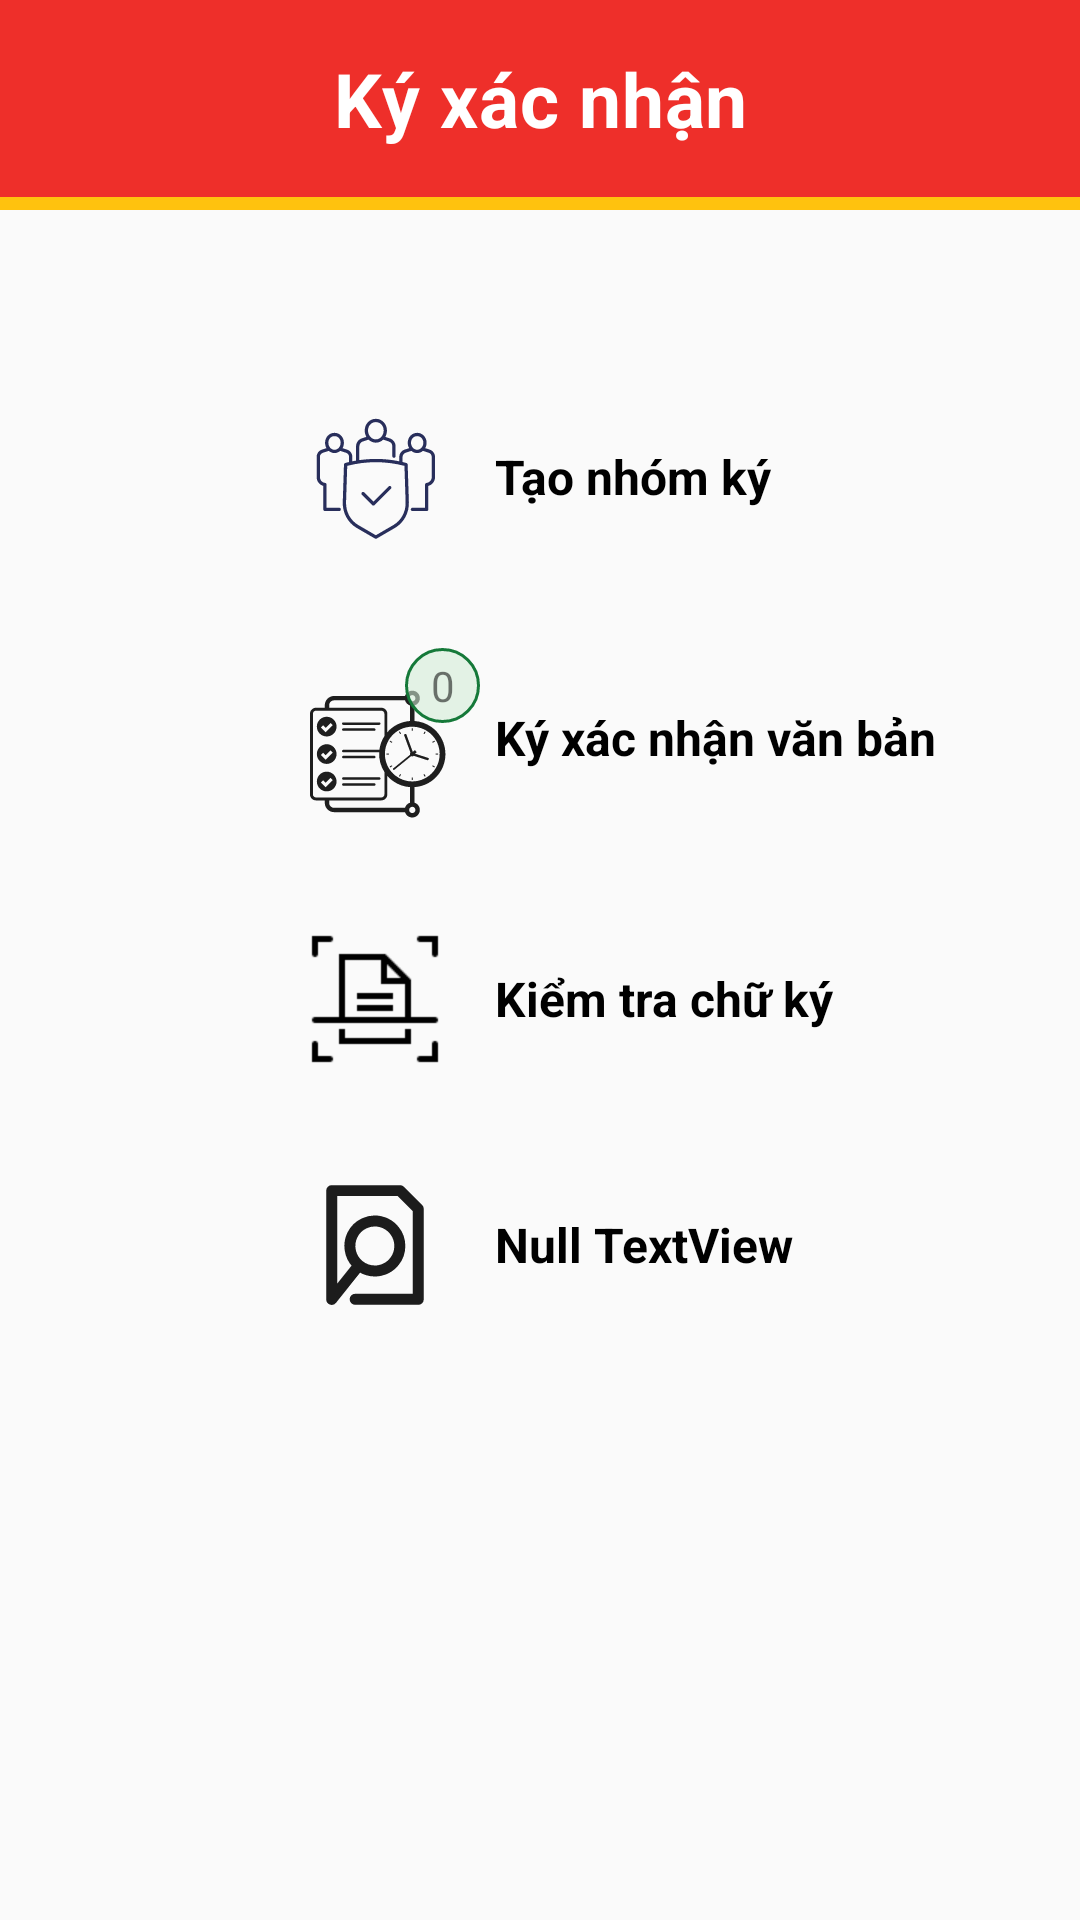

Icon click points for this 1080 × 1920 phone screenshot, format [x,y]:
circle: [442,685]
rescan document: [375,999]
search sign: [375,1245]
